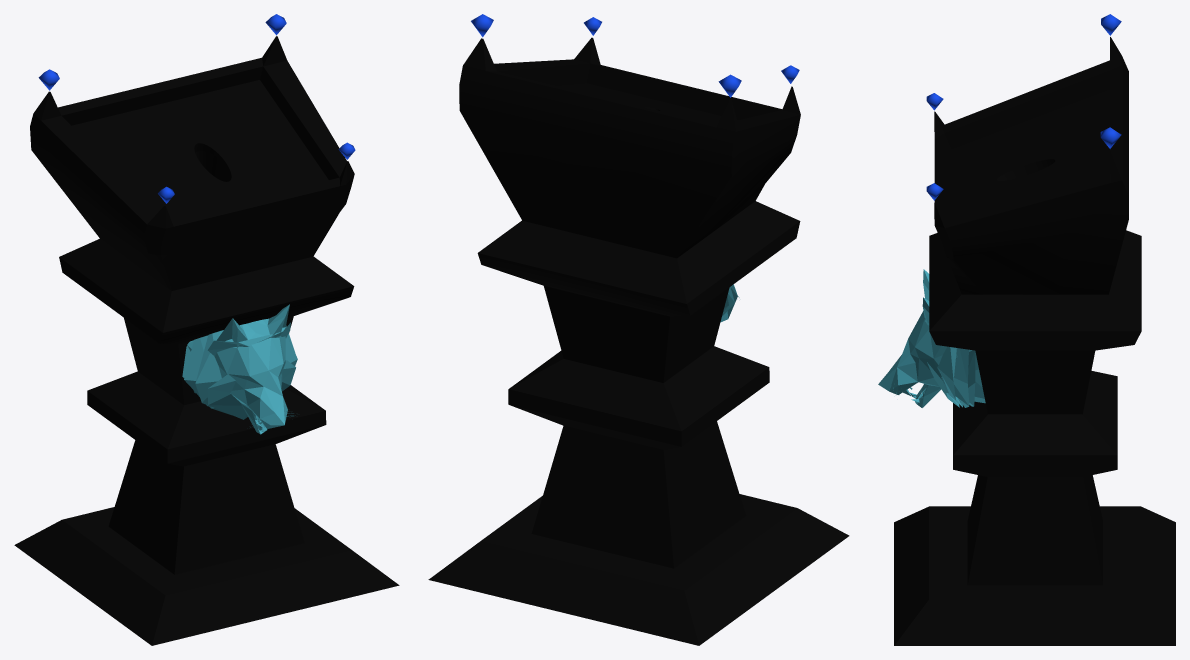
File: socleloup.fbx
3 renders of one model, left to right at view 1: azimuth 30°, elevation 25°; view 2: azimuth 150°, elevation 25°; view 3: azimuth 270°, elevation 25°, orthographic. The views are drawn at different scales.
Visible parts, largest first — view 1: Box002, Sphere006; view 2: Box002, Sphere006; view 3: Box002, Sphere006.
Boxes of the visible parts, left/top/right/bottom form: Box002: left=14, top=36, right=399, bottom=645; Sphere006: left=38, top=14, right=355, bottom=203; Box002: left=428, top=37, right=849, bottom=645; Sphere006: left=471, top=14, right=799, bottom=97; Box002: left=878, top=37, right=1175, bottom=645; Sphere006: left=926, top=14, right=1121, bottom=200.
Bounding box in the file's own units: 31.17 × 58.23 × 30.82.
